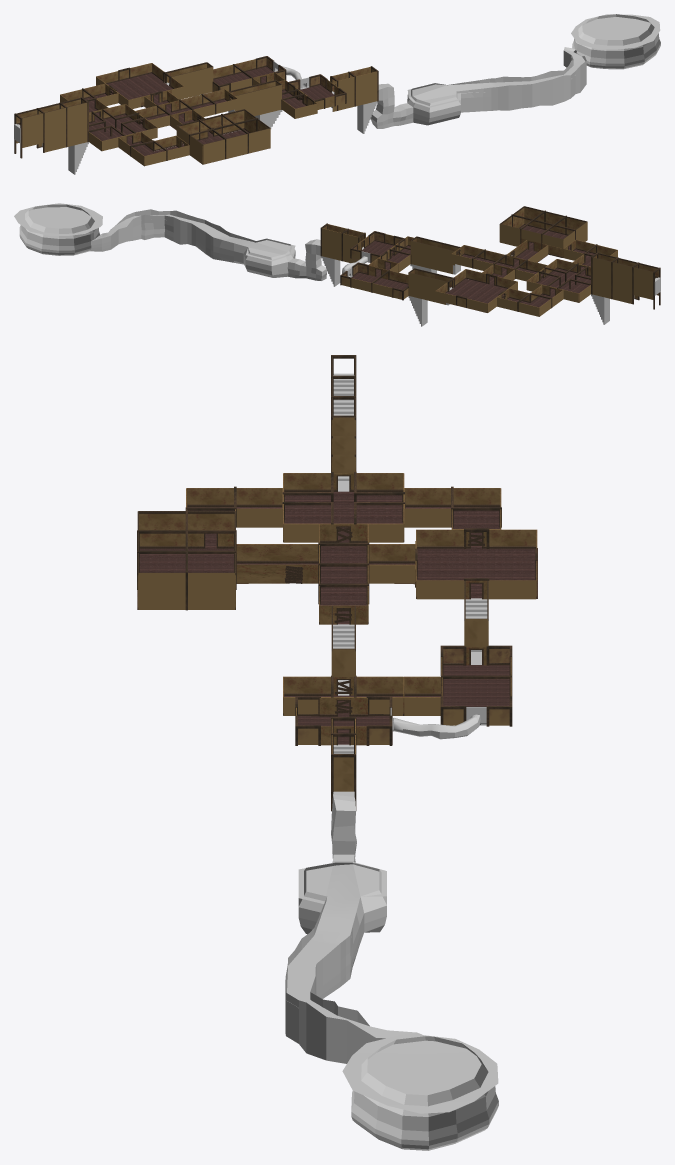
File: Catacomb2.1.fbx
3 renders of one model, top to bottom at view 1: azimuth 30°, elevation 25°; view 2: azimuth 150°, elevation 25°; view 3: azimuth 270°, elevation 25°, orthographic. The views are drawn at different scales.
Visible parts, largest first — view 1: walls, floor1, boss_roof, tunnel_roof, floor2, stairwell4, stairwell7, long_wall58, long_wall57, tunnel, long_wall65, long_wall66 (+1 smaller); view 2: walls, floor1, boss_roof, tunnel_roof, floor2, stairwell7, stairwell6, stairwell4, long_wall55, long_wall56, tunnel, long_wall64 (+22 smaller); view 3: walls, floor1, boss_roof, tunnel_roof, floor2, long_wall, tunnel, long_door.
Part boxes in pixels (bbox=[...]): walls: bbox=[370, 14, 660, 128]; floor1: bbox=[85, 73, 269, 164]; boss_roof: bbox=[571, 14, 660, 49]; tunnel_roof: bbox=[407, 47, 585, 107]; floor2: bbox=[213, 66, 334, 108]; stairwell4: bbox=[68, 142, 88, 174]; stairwell7: bbox=[357, 101, 377, 133]; long_wall58: bbox=[259, 84, 281, 104]; long_wall57: bbox=[234, 90, 259, 110]; tunnel: bbox=[273, 61, 309, 89]; long_wall65: bbox=[171, 71, 195, 88]; long_wall66: bbox=[196, 67, 212, 85]; walls: bbox=[19, 204, 327, 280]; floor1: bbox=[438, 225, 594, 312]; boss_roof: bbox=[14, 203, 102, 235]; tunnel_roof: bbox=[93, 214, 295, 261]; floor2: bbox=[352, 241, 410, 289]; stairwell7: bbox=[321, 256, 340, 286]; stairwell6: bbox=[408, 296, 427, 326]; stairwell4: bbox=[591, 294, 609, 324]; long_wall55: bbox=[431, 246, 454, 265]; long_wall56: bbox=[410, 240, 431, 259]; tunnel: bbox=[342, 251, 370, 277]; long_wall64: bbox=[408, 272, 424, 290]; walls: bbox=[285, 791, 498, 1150]; floor1: bbox=[137, 491, 537, 624]; boss_roof: bbox=[342, 1034, 498, 1113]; tunnel_roof: bbox=[287, 861, 422, 1038]; floor2: bbox=[284, 665, 509, 744]; long_wall: bbox=[236, 544, 318, 563]; tunnel: bbox=[390, 707, 486, 739]; long_door: bbox=[236, 564, 318, 583].
Size of the model in its own units: 560 by 84.97 by 157.
